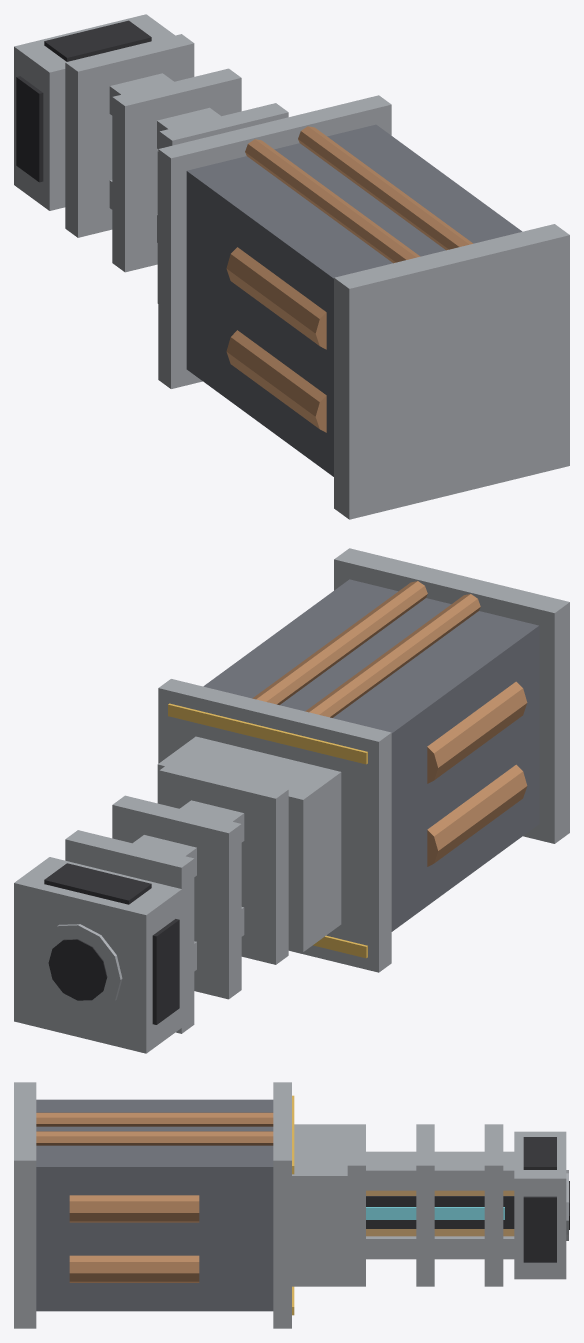
The model's file is railgun_lance.glb.
3 views of the same model, one above another, from view 1: azimuth 30°, elevation 25°; view 2: azimuth 150°, elevation 25°; view 3: azimuth 270°, elevation 25° (orthographic). The views are drawn at different scales.
Visible parts, largest first — view 1: object 1; view 2: object 1; view 3: object 1.
Boxes of the visible parts, bbox=[...] form: object 1: bbox=[14, 14, 569, 519]; object 1: bbox=[14, 548, 569, 1053]; object 1: bbox=[14, 1082, 569, 1328].
Size of the model in its own units: 1 by 1 by 3.
